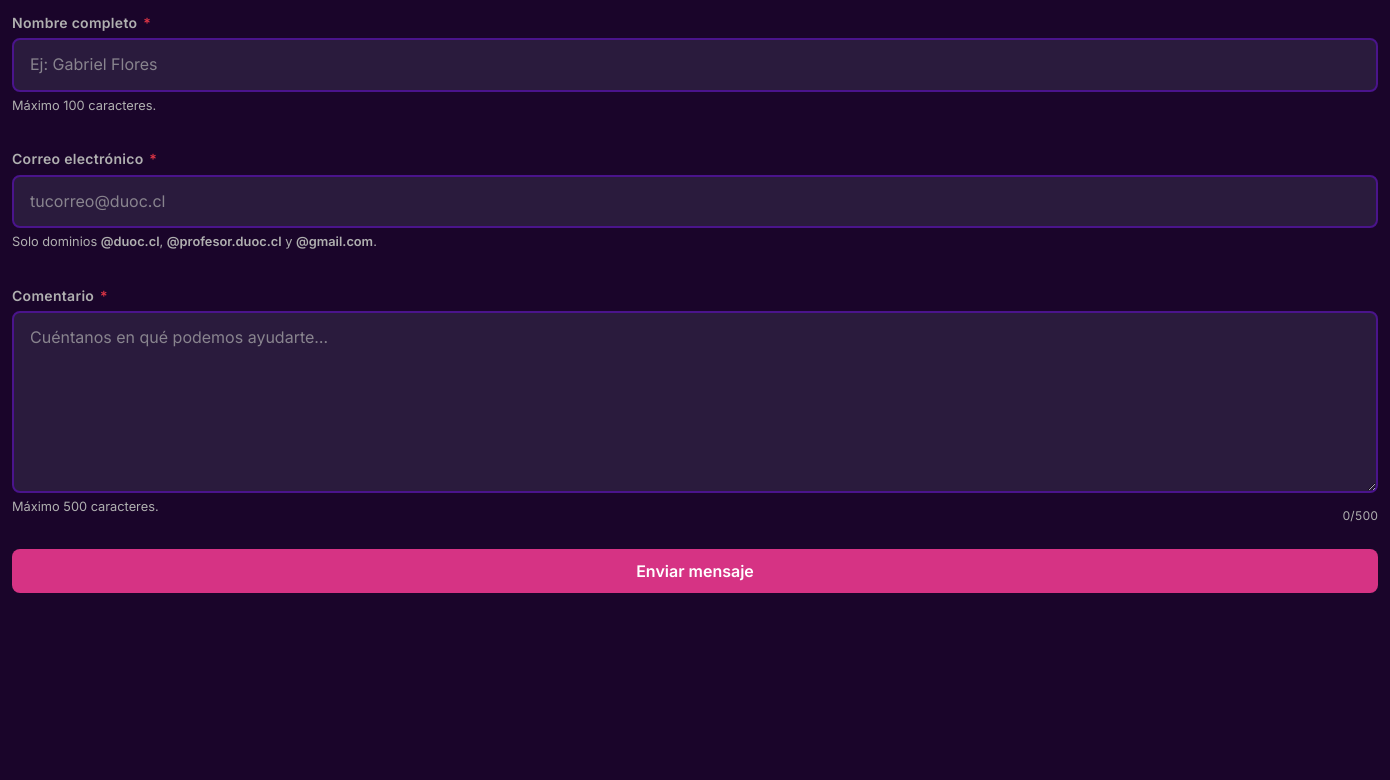
Test: <FormularioContacto /> › EVENTOS: un envío válido guarda el mensaje, confirma y limpia el formulario
Type "Ana Perez" into the field labelled "Nombre completo *". click: (695, 65)
box: left=12, top=38, right=1378, bottom=92
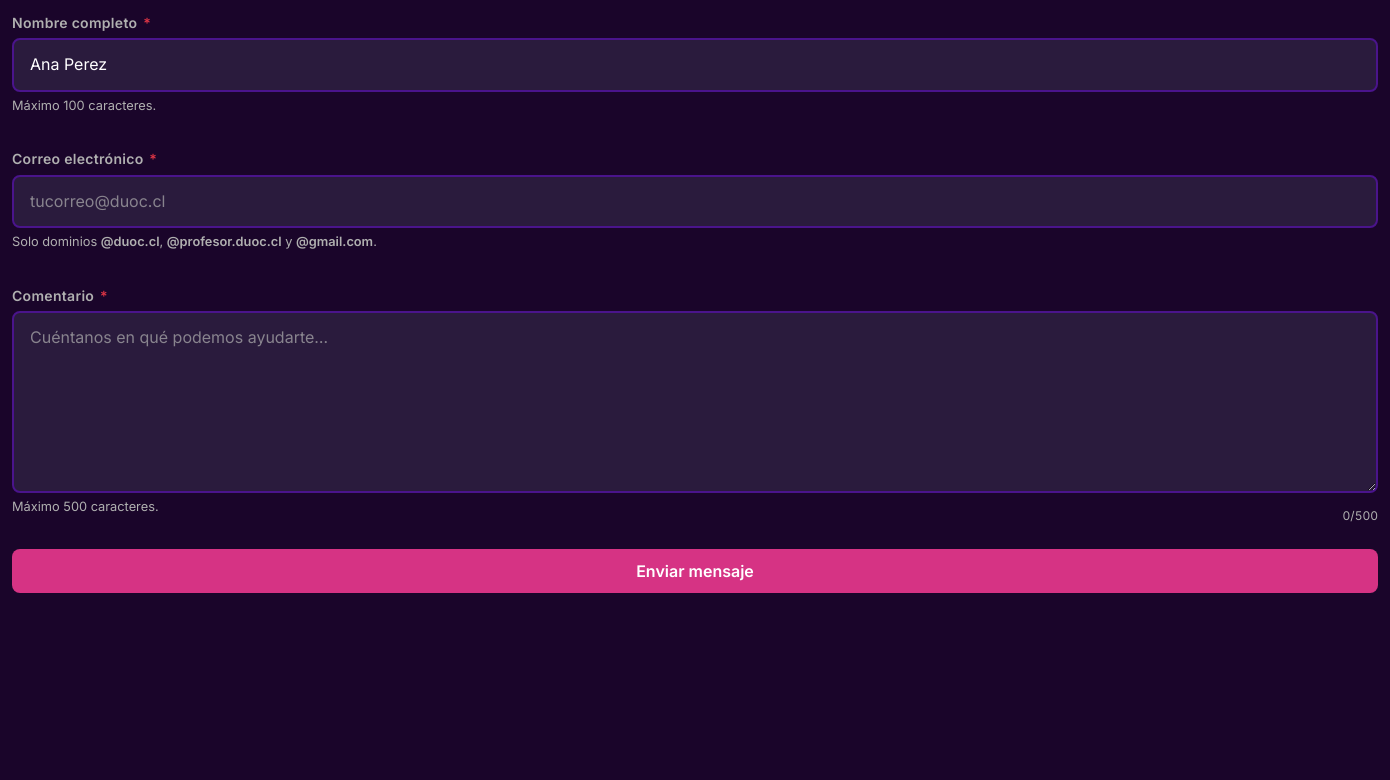
Type "ana@gmail.com" into the field labelled "Correo electrónico *". click: (695, 202)
box: left=12, top=175, right=1378, bottom=228
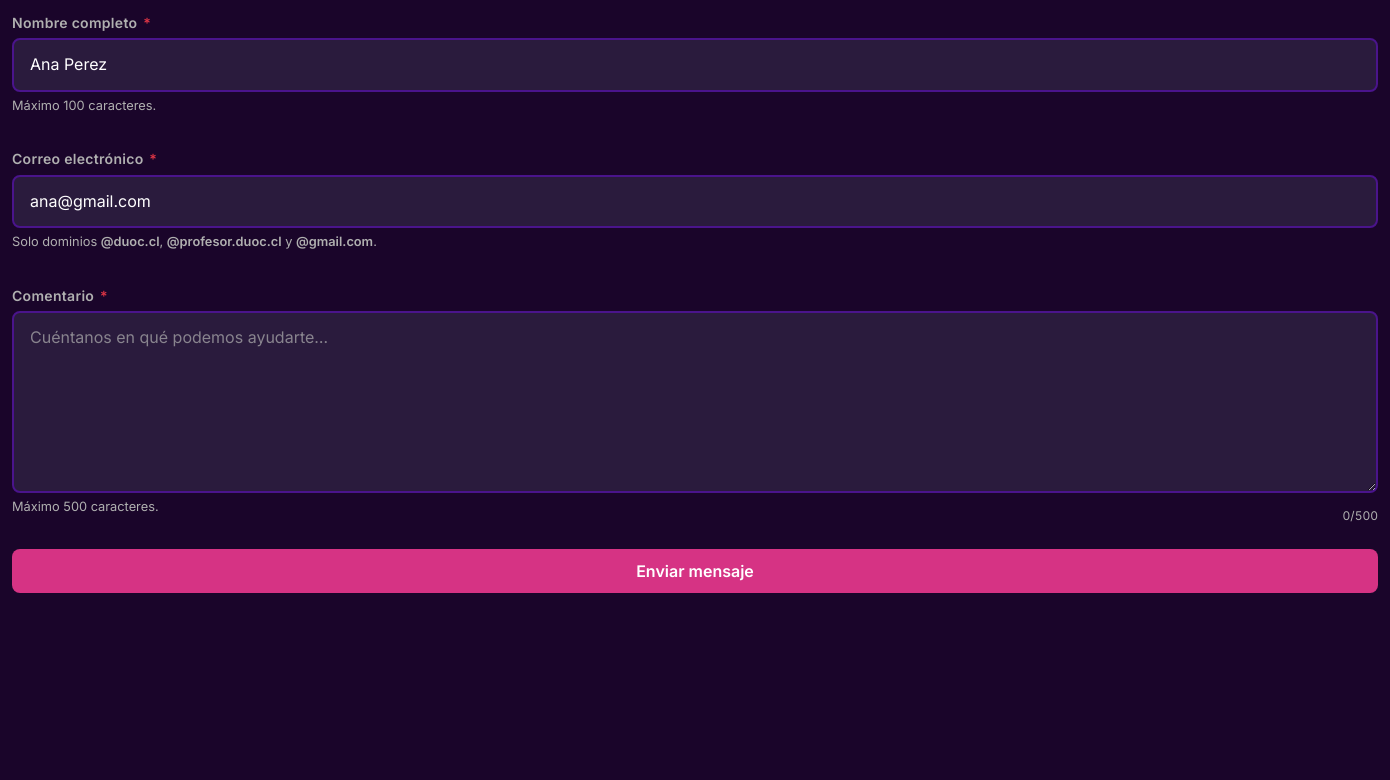
Type "Quiero consultar por un envío." into the text box labelled "Comentario *". click: (695, 402)
box: left=12, top=311, right=1378, bottom=493
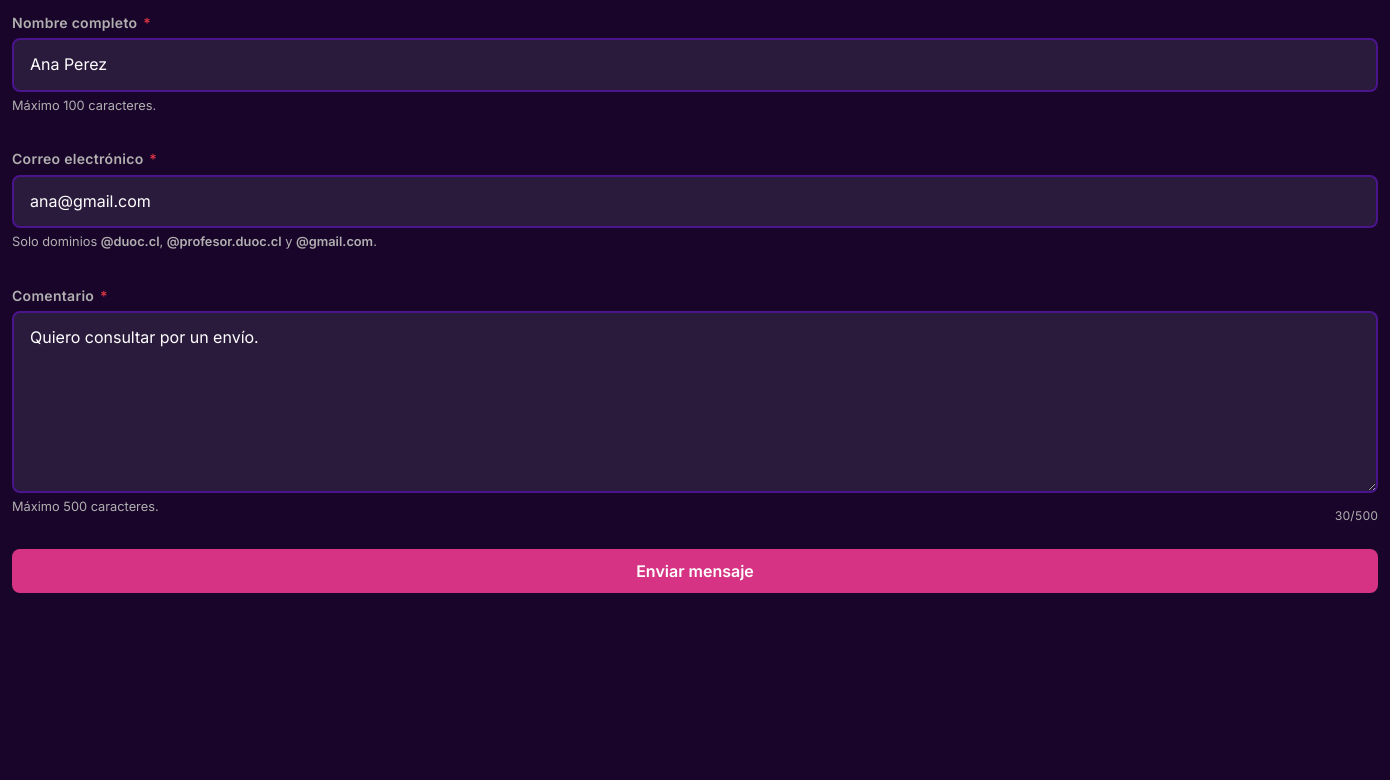
Click the button "Enviar mensaje". click: (695, 571)
box: left=12, top=549, right=1378, bottom=593
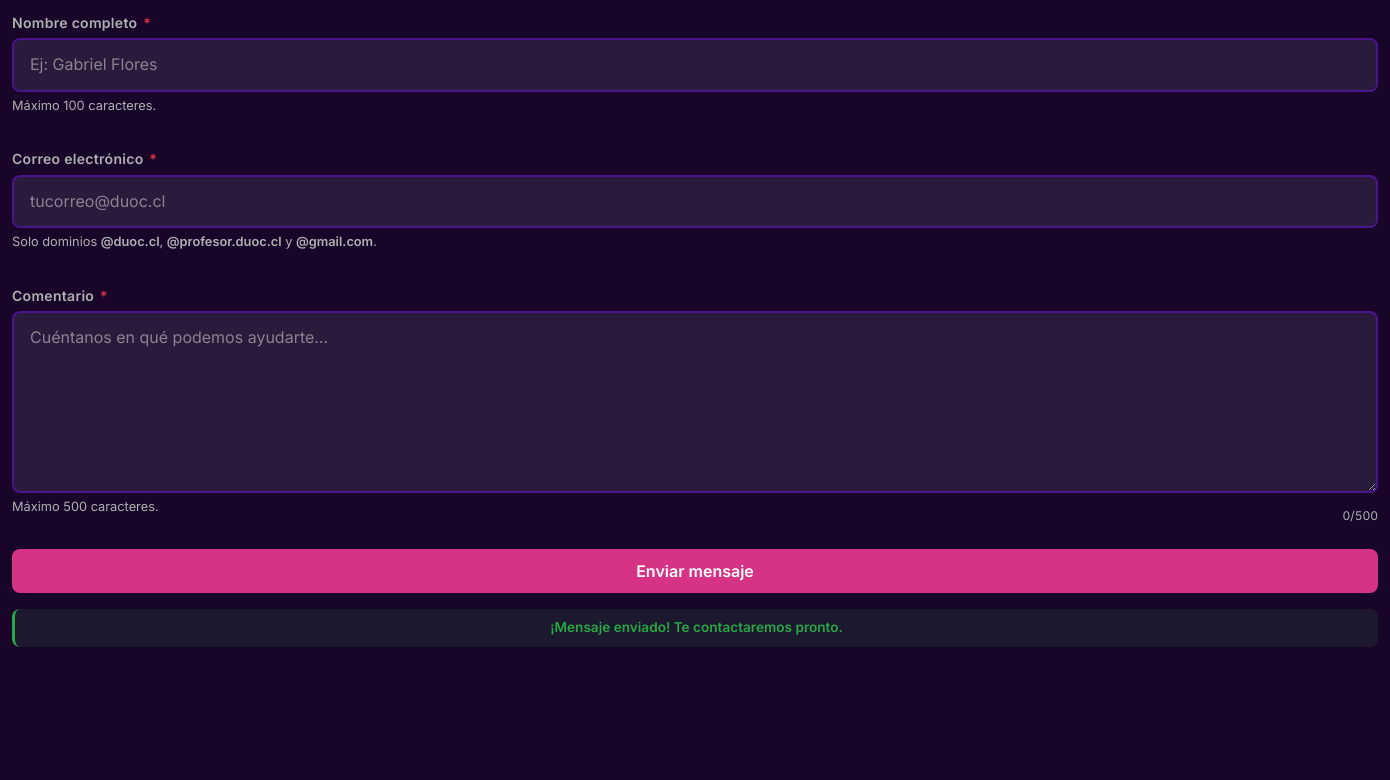
Check: the text "¡Mensaje enviado! Te contactaremos pronto." is shown, box left=12, top=609, right=1378, bottom=647
Check: the field labelled "Nombre completo *" is empty, box left=12, top=38, right=1378, bottom=92
